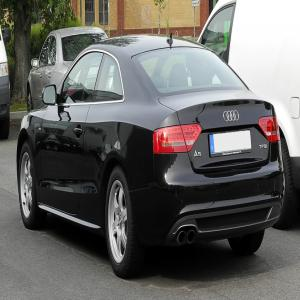Vehicle-registration-plate: (210, 130, 252, 158)
